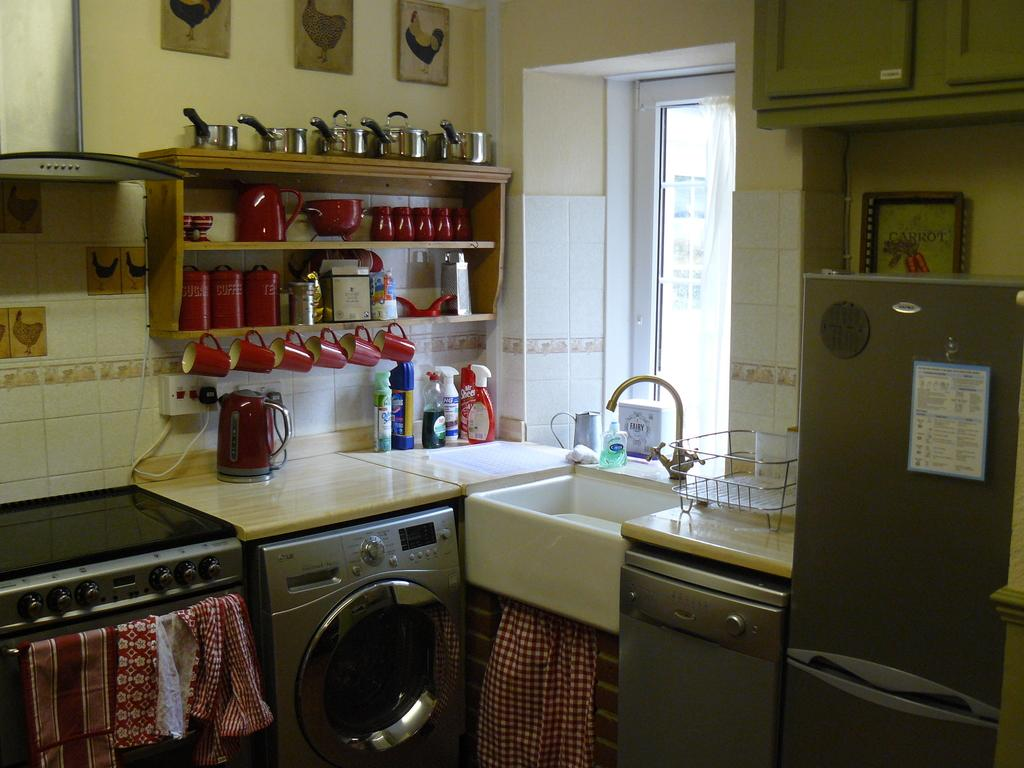handle: (812, 662, 978, 706)
